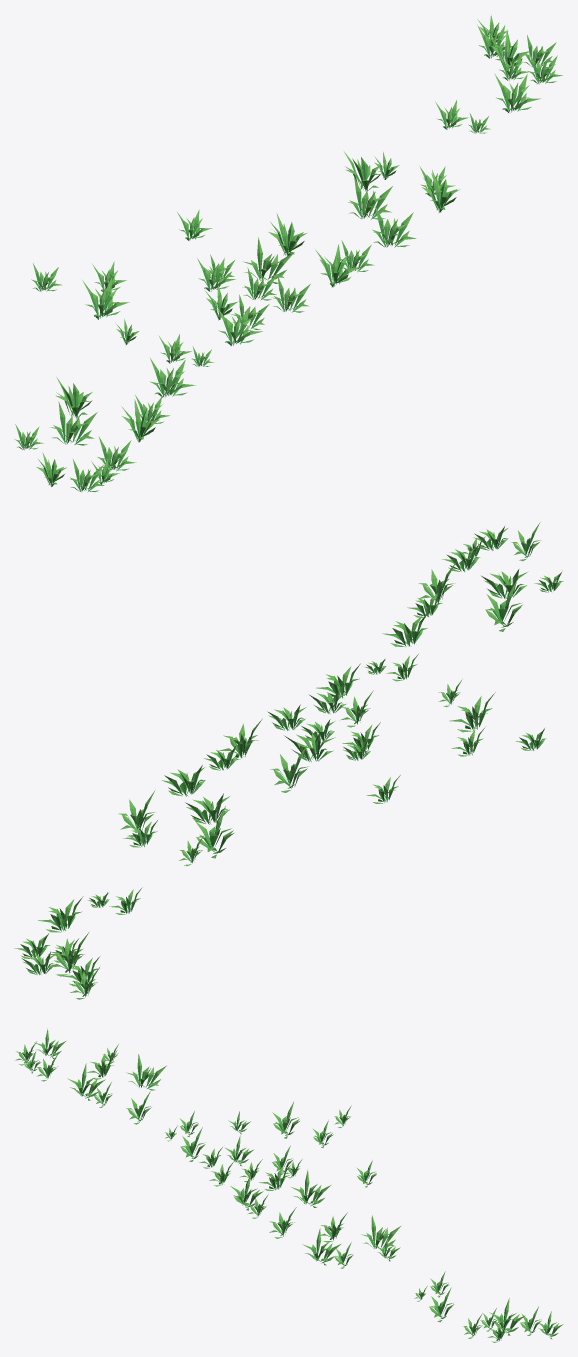
The model's file is Area_06_35.fbx.
3 renders of one model, top to bottom at view 1: azimuth 30°, elevation 25°; view 2: azimuth 210°, elevation 25°; view 3: azimuth 270°, elevation 25°, orthographic. The views are drawn at different scales.
Parts seen in each view (by area): view 1: Area_06_35; view 2: Area_06_35; view 3: Area_06_35.
Part boxes in pixels (box(x1,y1,x2,y2)): Area_06_35: box(14, 15, 562, 492); Area_06_35: box(14, 522, 563, 999); Area_06_35: box(15, 1028, 563, 1342).
Bounding box in the file's own units: 2156 × 106 × 1690.
